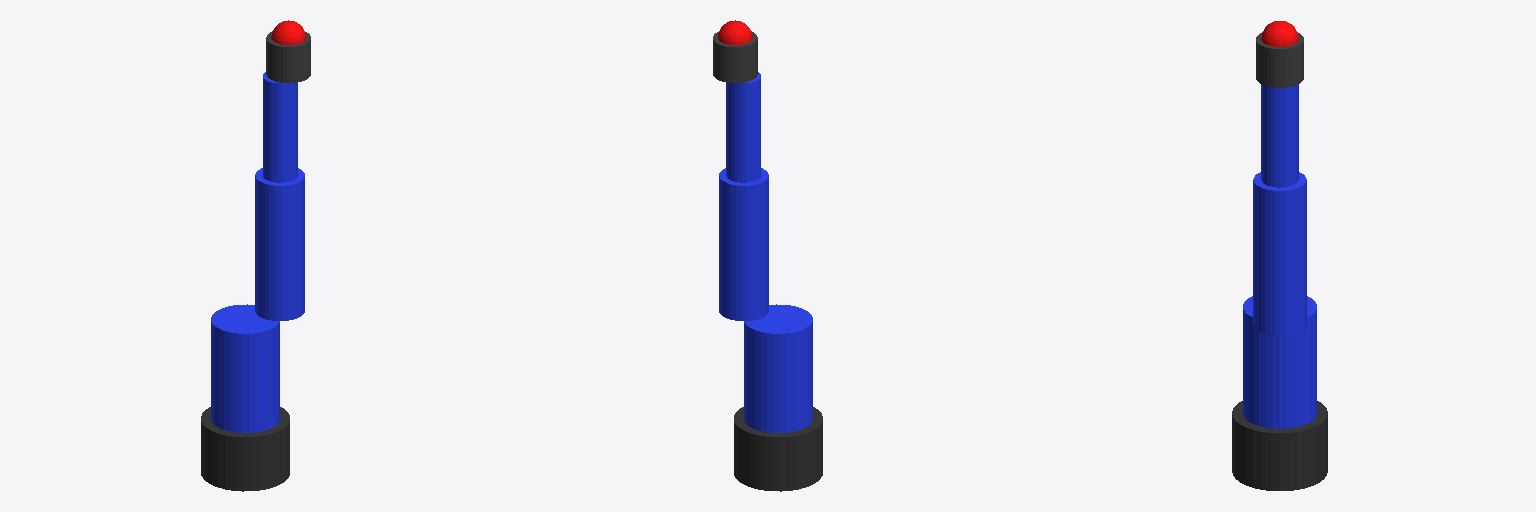
URDF robot description (arm_4dof_jaco_like):
<?xml version="1.0"?>
<robot name="arm_4dof_jaco_like">

  <!-- ================= BASE ================= -->
  <link name="base">
    <visual>
      <geometry>
        <cylinder radius="0.09" length="0.12"/>
      </geometry>
      <origin xyz="0 0 0.06"/>
      <material name="darkgray">
        <color rgba="0.25 0.25 0.25 1"/>
      </material>
    </visual>
  </link>

  <!-- ================= JOINT 1: BASE YAW ================= -->
  <joint name="joint1_base_yaw" type="revolute">
    <parent link="base"/>
    <child link="link1"/>
    <origin xyz="0 0 0.12" rpy="0 0 0"/>
    <axis xyz="0 0 1"/>
    <limit lower="-3.14" upper="3.14" effort="30" velocity="1"/>
  </joint>

  <!-- ================= LINK 1: SHOULDER COLUMN ================= -->
  <link name="link1">
    <visual>
      <geometry>
        <cylinder radius="0.07" length="0.22"/>
      </geometry>
      <origin xyz="0 0 0.11"/>
      <material name="blue">
        <color rgba="0.2 0.3 1 1"/>
      </material>
    </visual>
  </link>

  <!-- ================= JOINT 2: SHOULDER PITCH (OFFSET FORWARD) ================= -->
  <joint name="joint2_shoulder_pitch" type="revolute">
    <parent link="link1"/>
    <child link="link2"/>
    <!-- JACO-like forward shoulder offset -->
    <origin xyz="0.08 0 0.22" rpy="0 0 0"/>
    <axis xyz="0 1 0"/>
    <limit lower="-1.6" upper="1.2" effort="25" velocity="1"/>
  </joint>

  <!-- ================= LINK 2: UPPER ARM ================= -->
  <link name="link2">
    <visual>
      <geometry>
        <cylinder radius="0.05" length="0.30"/>
      </geometry>
      <origin xyz="0 0 0.15"/>
      <material name="blue">
        <color rgba="0.2 0.3 1 1"/>
      </material>
    </visual>
  </link>

  <!-- ================= JOINT 3: ELBOW PITCH ================= -->
  <joint name="joint3_elbow_pitch" type="revolute">
    <parent link="link2"/>
    <child link="link3"/>
    <!-- Elbow offset upward -->
    <origin xyz="0 0 0.30" rpy="0 0 0"/>
    <axis xyz="0 1 0"/>
    <limit lower="-2.8" upper="2.8" effort="20" velocity="1"/>
  </joint>

  <!-- ================= LINK 3: FOREARM ================= -->
  <link name="link3">
    <visual>
      <geometry>
        <cylinder radius="0.035" length="0.22"/>
      </geometry>
      <origin xyz="0 0 0.11"/>
      <material name="blue">
        <color rgba="0.2 0.3 1 1"/>
      </material>
    </visual>
  </link>

  <!-- ================= JOINT 4: WRIST PITCH ================= -->
  <joint name="joint4_wrist_pitch" type="revolute">
    <parent link="link3"/>
    <child link="wrist"/>
    <!-- Compact wrist offset -->
    <origin xyz="0.02 0 0.22" rpy="0 0 0"/>
    <axis xyz="0 1 0"/>
    <limit lower="-1.57" upper="1.57" effort="10" velocity="1"/>
  </joint>

  <!-- ================= WRIST BODY ================= -->
  <link name="wrist">
    <visual>
      <geometry>
        <cylinder radius="0.045" length="0.08"/>
      </geometry>
      <origin xyz="0 0 0.04"/>
      <material name="darkgray">
        <color rgba="0.3 0.3 0.3 1"/>
      </material>
    </visual>
  </link>

  <!-- ================= END EFFECTOR ================= -->
  <joint name="joint_tool" type="fixed">
    <parent link="wrist"/>
    <child link="ee"/>
    <origin xyz="0 0 0.08" rpy="0 0 0"/>
  </joint>

  <link name="ee">
    <visual>
      <geometry>
        <sphere radius="0.035"/>
      </geometry>
      <material name="red">
        <color rgba="1 0.1 0.1 1"/>
      </material>
    </visual>
  </link>

</robot>

--- Facts derived from the render (not from the file) ---
The picture shows the robot from 3 angles, left to right: view 1: azimuth 30°, elevation 25°; view 2: azimuth 150°, elevation 25°; view 3: azimuth 270°, elevation 25°; orthographic projection.
Model arm_4dof_jaco_like with 6 links and 5 joints (4 revolute, 1 fixed), rooted at base, posed every joint at zero.
Links seen in each view (by area): view 1: link1, link2, base, link3, wrist, ee; view 2: link1, link2, base, link3, wrist, ee; view 3: link2, link1, base, link3, wrist, ee.
Link boxes in pixels (left/top/right/bottom): link1: left=211, top=304, right=279, bottom=432; link2: left=255, top=168, right=304, bottom=320; base: left=201, top=407, right=289, bottom=491; link3: left=263, top=72, right=297, bottom=182; wrist: left=266, top=31, right=310, bottom=82; ee: left=271, top=20, right=305, bottom=44; link1: left=744, top=304, right=812, bottom=432; link2: left=719, top=168, right=768, bottom=320; base: left=734, top=407, right=822, bottom=491; link3: left=726, top=72, right=760, bottom=182; wrist: left=713, top=31, right=757, bottom=82; ee: left=718, top=20, right=752, bottom=44; link2: left=1253, top=172, right=1306, bottom=335; link1: left=1243, top=296, right=1316, bottom=428; base: left=1232, top=401, right=1327, bottom=490; link3: left=1261, top=84, right=1298, bottom=187; wrist: left=1256, top=32, right=1303, bottom=87; ee: left=1261, top=21, right=1298, bottom=46.
Size in the robot's own frame: 0.235 by 0.18 by 0.975 metres.
Geometry: primitives only (box / cylinder / sphere), no mesh files.